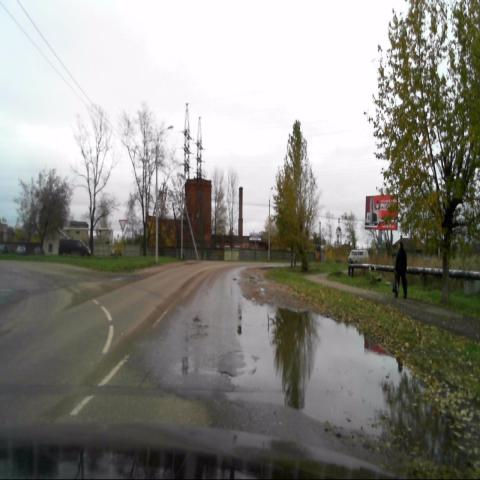2_4: (119, 218, 129, 232)
